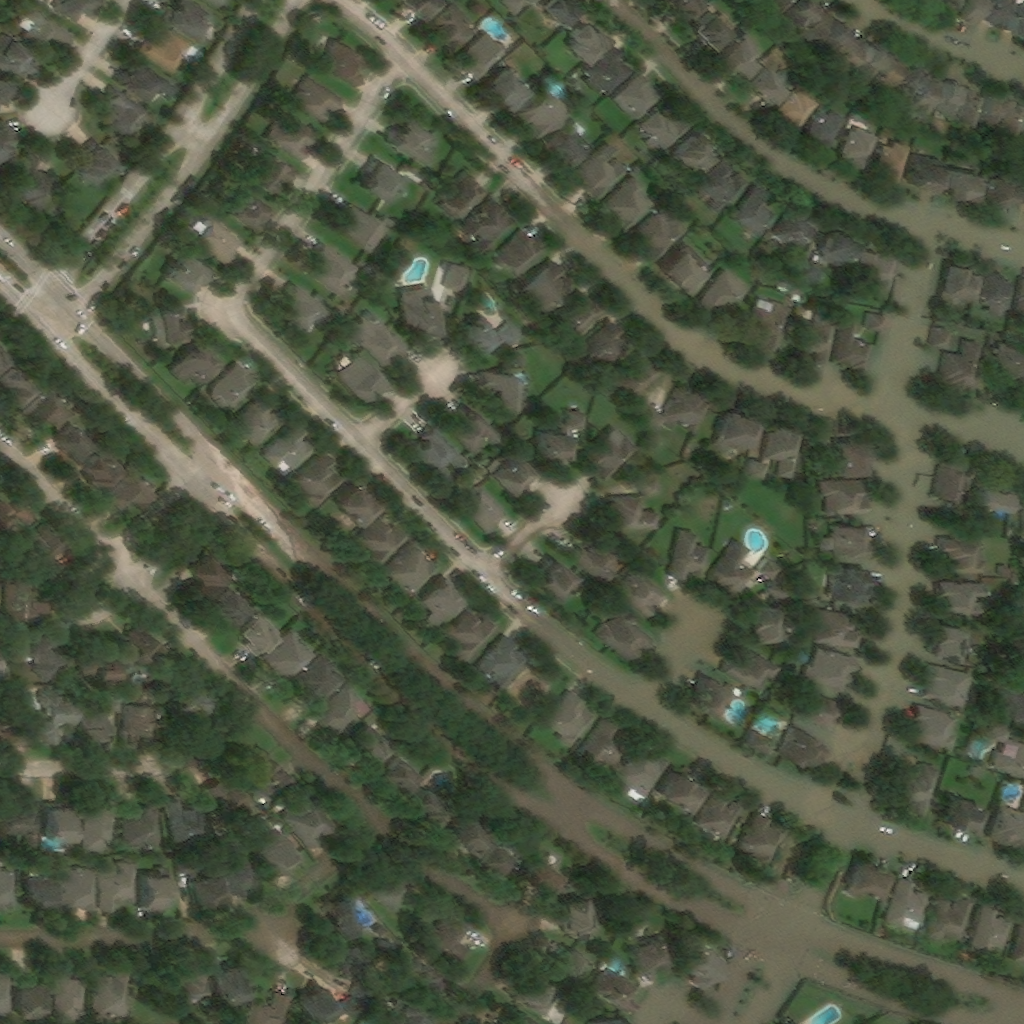destroyed: (684, 945, 727, 994), (794, 692, 843, 733)
major_damage: (698, 159, 751, 219), (546, 693, 597, 753), (283, 798, 334, 853), (639, 212, 689, 267), (617, 747, 671, 797), (298, 982, 362, 1023), (606, 179, 654, 233), (725, 651, 780, 698), (734, 187, 778, 243), (887, 881, 929, 939), (662, 245, 711, 294), (921, 666, 974, 711), (804, 649, 858, 693), (748, 301, 790, 356), (774, 91, 822, 139), (700, 273, 751, 318), (584, 720, 627, 771), (429, 916, 472, 967), (941, 342, 983, 394), (745, 814, 786, 867), (912, 708, 958, 755), (699, 792, 744, 840), (812, 611, 863, 653), (899, 766, 939, 819), (926, 898, 973, 943), (717, 33, 760, 82), (661, 770, 706, 816), (371, 866, 415, 913), (776, 727, 825, 767), (849, 860, 892, 905), (835, 319, 871, 372), (800, 315, 836, 367), (350, 725, 392, 769), (448, 814, 492, 856), (593, 973, 635, 1017), (778, 209, 818, 255), (744, 65, 790, 105), (972, 905, 1011, 952), (990, 345, 1022, 402), (978, 272, 1015, 321), (692, 675, 731, 720), (990, 725, 1022, 779), (858, 251, 898, 294), (560, 895, 599, 939), (821, 482, 868, 518), (518, 975, 557, 1018), (628, 935, 666, 979), (939, 582, 984, 619), (809, 113, 849, 154), (945, 795, 984, 837), (940, 541, 984, 578), (694, 10, 733, 51), (830, 565, 870, 604), (481, 842, 520, 882), (840, 131, 882, 168), (936, 459, 970, 504), (410, 786, 449, 825), (526, 858, 565, 897), (380, 756, 420, 794), (821, 523, 864, 558), (329, 897, 363, 941), (977, 473, 1014, 513), (803, 6, 839, 47), (878, 146, 912, 188), (913, 78, 944, 124), (820, 20, 853, 63), (406, 959, 443, 997), (930, 621, 963, 662), (944, 263, 978, 302), (820, 227, 859, 261), (947, 167, 981, 205), (908, 157, 946, 191), (838, 34, 872, 72), (989, 807, 1022, 846), (857, 44, 890, 83), (783, 0, 822, 32), (991, 682, 1022, 720), (939, 80, 966, 123), (386, 994, 426, 1023), (332, 943, 361, 982), (666, 0, 707, 27), (837, 441, 867, 477), (959, 89, 985, 130), (988, 177, 1022, 207), (879, 54, 908, 89), (902, 63, 925, 104), (552, 945, 587, 971), (988, 0, 1018, 29), (965, 0, 995, 29), (1004, 97, 1022, 140), (750, 733, 777, 760), (801, 262, 827, 290), (984, 91, 1006, 118), (249, 1001, 274, 1023), (1008, 0, 1022, 38), (502, 1008, 537, 1023), (942, 0, 968, 18), (771, 0, 798, 17), (932, 330, 951, 353), (867, 315, 886, 336), (272, 993, 291, 1013), (927, 0, 947, 10), (848, 287, 857, 302), (1001, 568, 1010, 580), (793, 297, 803, 307)
minor_damage: (638, 388, 711, 437), (384, 547, 441, 602), (461, 203, 516, 259), (576, 146, 630, 203), (476, 637, 529, 694), (310, 245, 360, 305), (297, 454, 348, 511), (596, 616, 655, 665), (338, 206, 395, 256), (103, 697, 155, 749), (265, 425, 316, 478), (585, 43, 634, 98), (358, 519, 410, 570), (614, 353, 664, 406), (300, 658, 346, 715), (267, 115, 317, 166), (421, 578, 469, 631), (139, 32, 194, 78), (711, 542, 757, 597), (439, 173, 489, 223), (520, 90, 569, 141), (618, 573, 670, 621), (450, 614, 499, 664), (519, 261, 567, 312), (639, 110, 694, 154), (497, 232, 546, 281), (458, 34, 507, 83), (239, 750, 285, 802), (294, 80, 343, 128), (101, 90, 148, 140), (194, 222, 243, 269), (614, 74, 661, 123), (264, 635, 317, 678), (101, 468, 154, 510), (118, 62, 168, 106), (178, 862, 226, 907), (671, 127, 719, 171), (37, 696, 77, 748), (28, 634, 67, 687), (561, 294, 604, 341), (585, 321, 626, 370), (21, 384, 67, 427), (164, 799, 206, 846), (485, 65, 529, 109), (671, 532, 709, 582), (190, 551, 228, 601), (548, 123, 591, 167), (74, 142, 116, 187), (337, 484, 379, 529), (609, 499, 660, 536), (8, 582, 54, 623), (121, 803, 159, 852), (766, 427, 801, 480), (362, 160, 404, 204), (322, 40, 361, 87), (569, 20, 611, 63), (318, 687, 361, 729), (717, 406, 759, 448), (536, 559, 578, 601), (572, 540, 616, 580), (50, 420, 91, 461), (250, 151, 290, 193), (229, 189, 269, 231), (102, 866, 136, 915), (93, 974, 129, 1020), (177, 968, 212, 1015), (432, 2, 473, 42), (79, 450, 119, 491), (62, 870, 99, 914), (210, 585, 250, 625), (220, 852, 254, 899), (84, 803, 114, 856), (8, 801, 38, 853), (237, 613, 278, 651), (259, 834, 298, 872), (213, 962, 247, 1005), (45, 805, 81, 845), (182, 681, 220, 718), (56, 973, 84, 1023), (36, 526, 71, 564), (125, 626, 159, 664), (14, 980, 47, 1017), (140, 872, 169, 913), (2, 368, 34, 405), (543, 0, 582, 28), (0, 500, 37, 528), (751, 604, 777, 643), (24, 876, 58, 903), (403, 0, 441, 18), (0, 870, 15, 912), (501, 0, 533, 18), (0, 976, 14, 1017), (95, 657, 121, 678), (761, 560, 783, 583), (6, 730, 30, 751), (640, 477, 661, 500), (749, 462, 769, 485)
no_damage: (348, 315, 406, 367), (235, 394, 285, 451), (410, 427, 466, 477), (589, 429, 638, 485), (332, 353, 387, 401), (459, 488, 509, 539), (159, 0, 213, 46), (211, 365, 260, 414), (536, 414, 587, 461), (12, 155, 54, 211), (453, 407, 496, 459), (169, 344, 222, 386), (485, 450, 533, 493), (19, 9, 73, 47), (285, 287, 325, 338), (391, 122, 439, 162), (164, 250, 205, 296), (403, 289, 439, 336), (460, 313, 499, 355), (152, 304, 189, 347), (481, 370, 516, 411), (0, 34, 32, 74), (49, 0, 94, 20), (445, 266, 471, 297), (0, 122, 16, 168), (499, 327, 525, 353), (0, 76, 12, 102), (515, 356, 526, 371), (201, 0, 221, 6)
unclassified: (0, 344, 12, 370)
